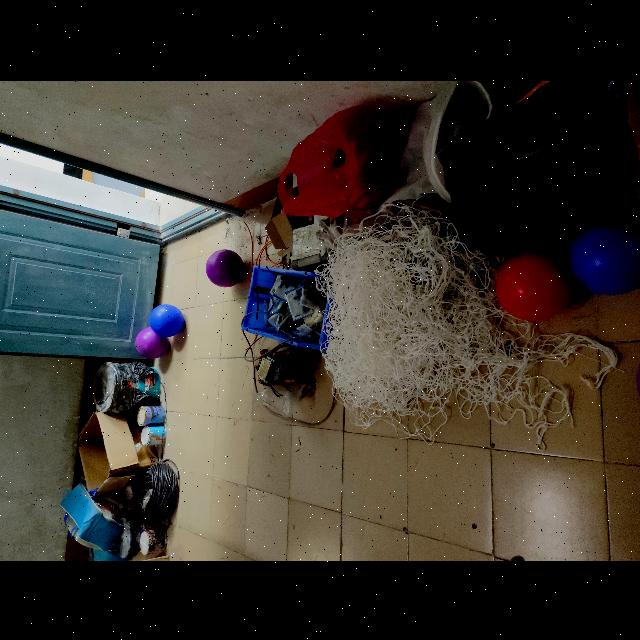B: (566, 220, 640, 294), (150, 303, 188, 335)
P: (203, 250, 245, 288), (133, 326, 167, 359), (634, 344, 640, 414)
R: (492, 249, 582, 323)
